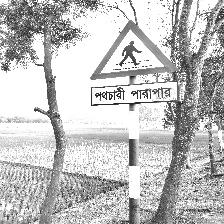Pedestrian-crossing: (90, 20, 179, 106)
